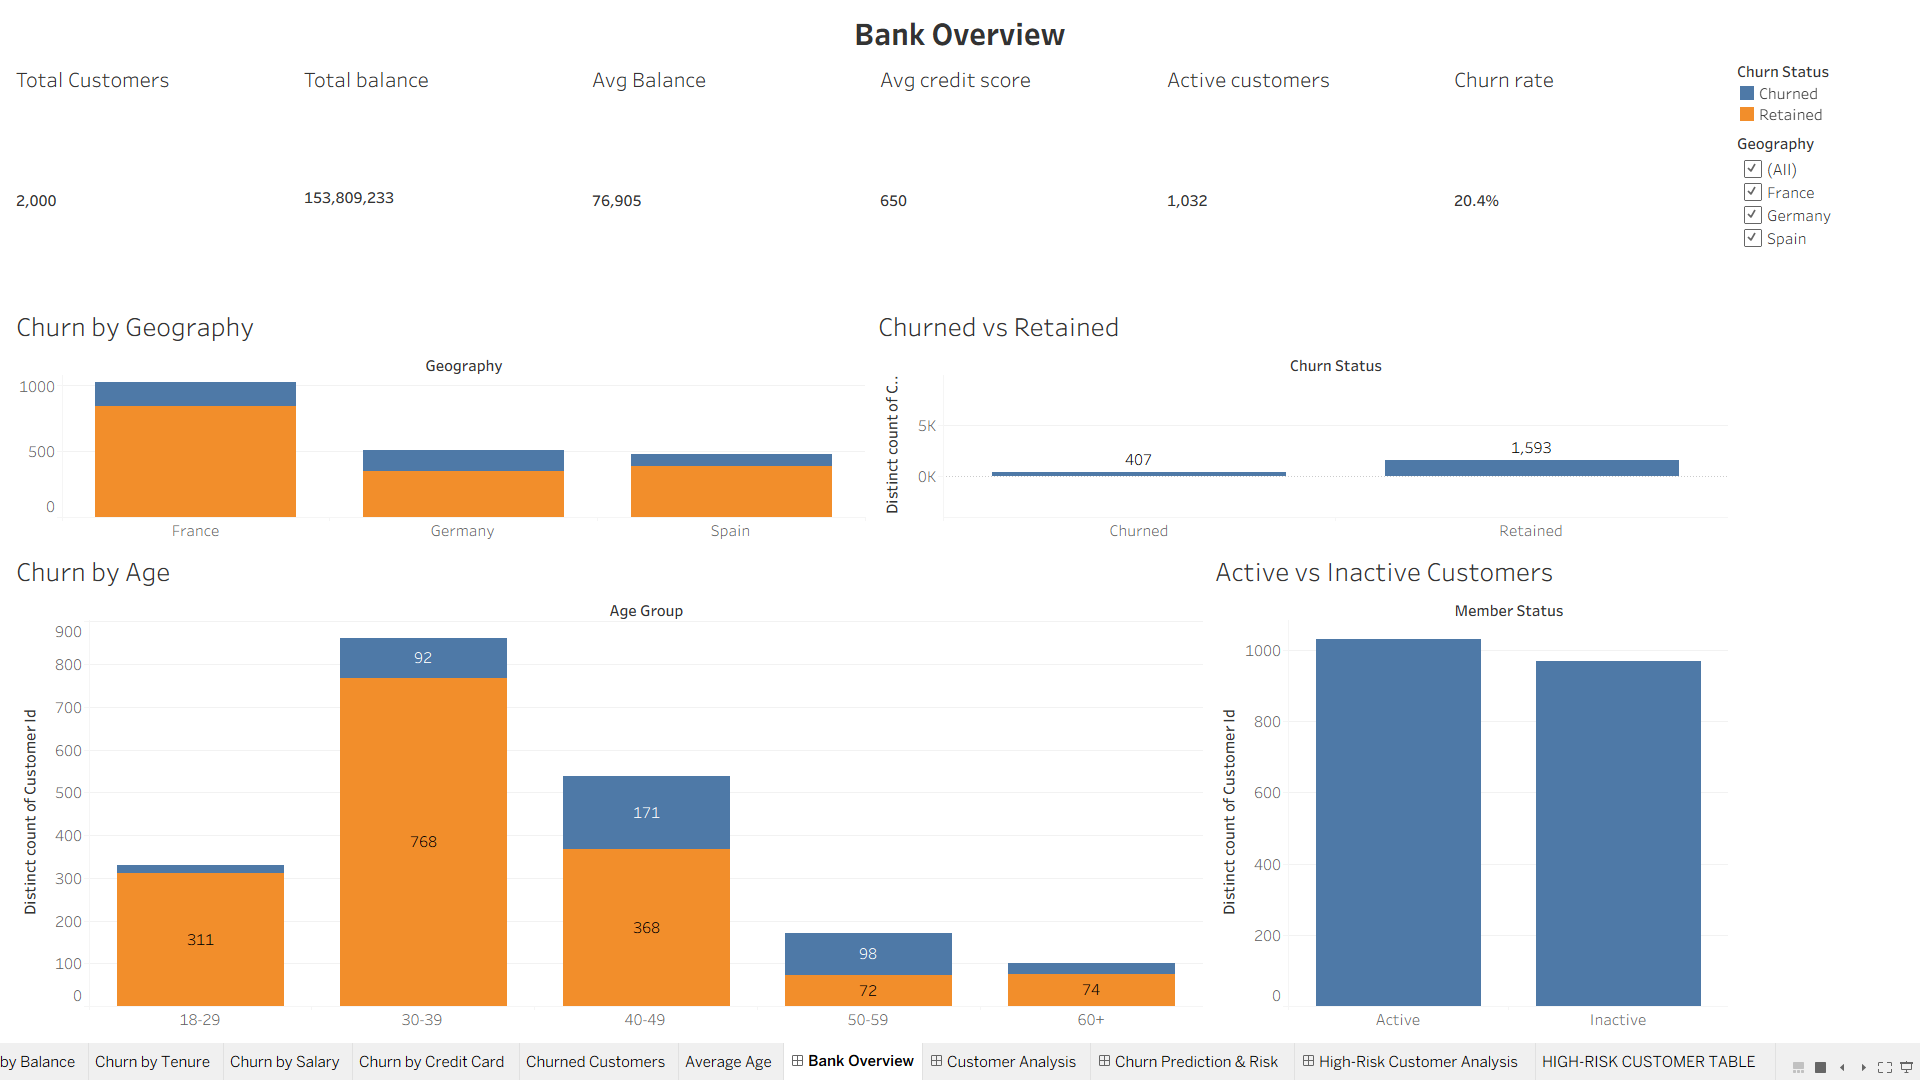

This screenshot's page, from the dashboard's own definition file:
{"tool":"tableau","page":{"name":"Bank Overview","canvas":[1000,1000],"units":"permille","ordinal":0},"visuals":[{"type":"title","box":[4.7,9.4,990.6,57.6]},{"type":"worksheet","title":"Total Customers","mark":"Automatic","box":[4.7,67,150,230.3]},{"type":"worksheet","title":"Total balance","mark":"Automatic","box":[154.7,67,150,230.3]},{"type":"worksheet","title":"Avg Balance","mark":"Automatic","box":[304.6,67,149.4,230.3]},{"type":"worksheet","title":"Avg credit score","mark":"Automatic","box":[454,67,149.4,230.3]},{"type":"worksheet","title":"Active customers","mark":"Automatic","box":[603.4,67,149.4,230.3]},{"type":"worksheet","title":"Churn rate","mark":"Automatic","box":[752.8,67,149.4,230.3]},{"type":"legend","title":"Churn by Geography","param":"[federated.0efkrn5075c5j214u6vuk07ufjy2].[none:Calculation_2695230802886657:nk]","box":[902,67,93.4,84.6]},{"type":"filter","title":"Churn by Geography","param":"[federated.0efkrn5075c5j214u6vuk07ufjy2].[none:Geography:nk]","box":[902,151.6,93.4,150.4]},{"type":"worksheet","title":"Churn by Geography","mark":"Automatic","rows":["CustomerId"],"cols":["Geography"],"box":[4.7,297.7,448.6,231]},{"type":"worksheet","title":"Churned vs Retained","mark":"Bar","rows":["CustomerId"],"cols":["Calculation_2695230802886657"],"box":[453.3,297.7,448.7,231]},{"type":"worksheet","title":"Churn by Age","mark":"Bar","rows":["CustomerId"],"cols":["Calculation_2695230806921219"],"box":[4.7,528.7,621.6,461.9]},{"type":"worksheet","title":"Active vs Inactive Customers","mark":"Bar","rows":["CustomerId"],"cols":["Calculation_2695230805340162"],"box":[626.2,528.7,275.7,461.9]}]}

Visuals, with their boxes on the dashboard's canvas, which has no fixed pixel size, in thousandths of its width and height (x1, y1, x2, y2). These are canvas units, not pixel positions in the 1920x1080 screenshot, which may show the page scaled, cropped or inside an application window:
title: rect(5, 9, 995, 67)
"Total Customers" worksheet: rect(5, 67, 155, 297)
"Total balance" worksheet: rect(155, 67, 305, 297)
"Avg Balance" worksheet: rect(305, 67, 454, 297)
"Avg credit score" worksheet: rect(454, 67, 603, 297)
"Active customers" worksheet: rect(603, 67, 753, 297)
"Churn rate" worksheet: rect(753, 67, 902, 297)
"Churn by Geography" legend: rect(902, 67, 995, 152)
"Churn by Geography" filter: rect(902, 152, 995, 302)
"Churn by Geography" worksheet: rect(5, 298, 453, 529)
"Churned vs Retained" worksheet (Bar marks): rect(453, 298, 902, 529)
"Churn by Age" worksheet (Bar marks): rect(5, 529, 626, 991)
"Active vs Inactive Customers" worksheet (Bar marks): rect(626, 529, 902, 991)
